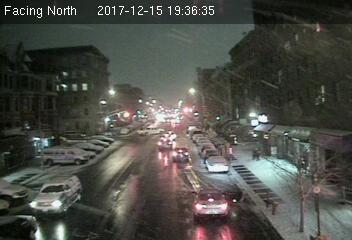car: (30, 175, 82, 215), (191, 188, 232, 218), (204, 156, 228, 173), (171, 147, 192, 164), (158, 137, 174, 151)
